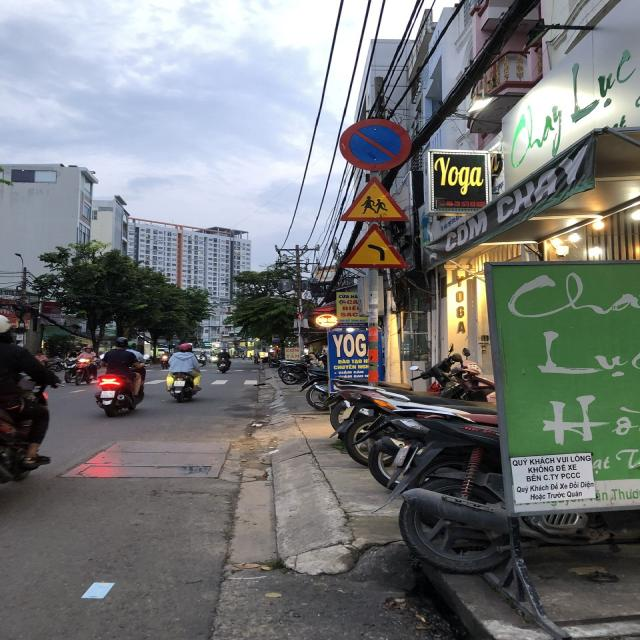Bien bao cam do xe: (335, 115, 418, 171)
Bien bao cho ngoat nguy hiem: (333, 225, 410, 274)
Bien bao tre em: (334, 175, 420, 226)
